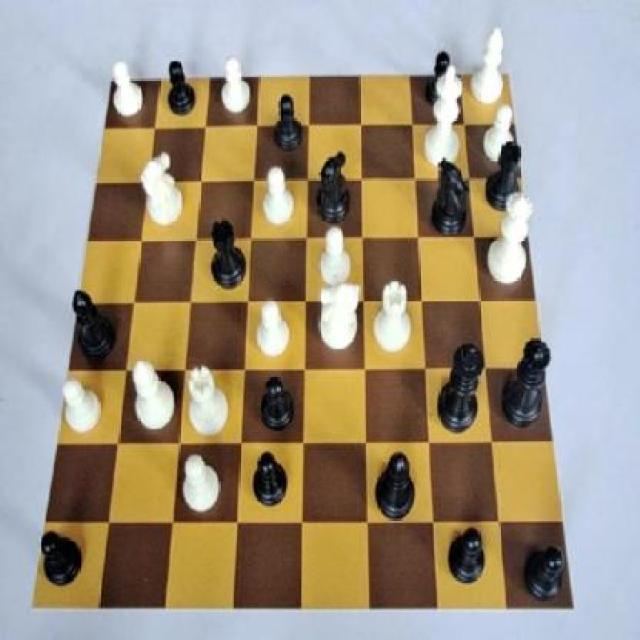bishop: (369, 438, 423, 528), (66, 285, 123, 369)
black-bishop: (432, 331, 486, 442)
black-king: (428, 149, 475, 242), (311, 143, 355, 228)
black-knight: (518, 534, 572, 611), (445, 511, 493, 597), (243, 440, 295, 517), (34, 523, 87, 592), (266, 88, 314, 158), (251, 372, 300, 440), (162, 54, 203, 121), (422, 46, 456, 107)
black-pawn: (496, 328, 554, 440)
black-queen: (198, 210, 252, 296), (482, 129, 528, 217)
black-rook: (128, 349, 182, 441), (465, 20, 512, 108)
white-bishop: (422, 61, 466, 172)
white-king: (132, 146, 188, 236), (312, 271, 366, 355)
white-knight: (174, 448, 230, 518), (55, 371, 108, 442), (251, 291, 298, 366), (105, 54, 152, 124), (480, 100, 526, 167), (258, 158, 298, 234), (217, 43, 255, 121), (314, 220, 354, 292)
white-pawn: (483, 183, 535, 292)
white-queen: (369, 269, 418, 365), (182, 357, 236, 443)
